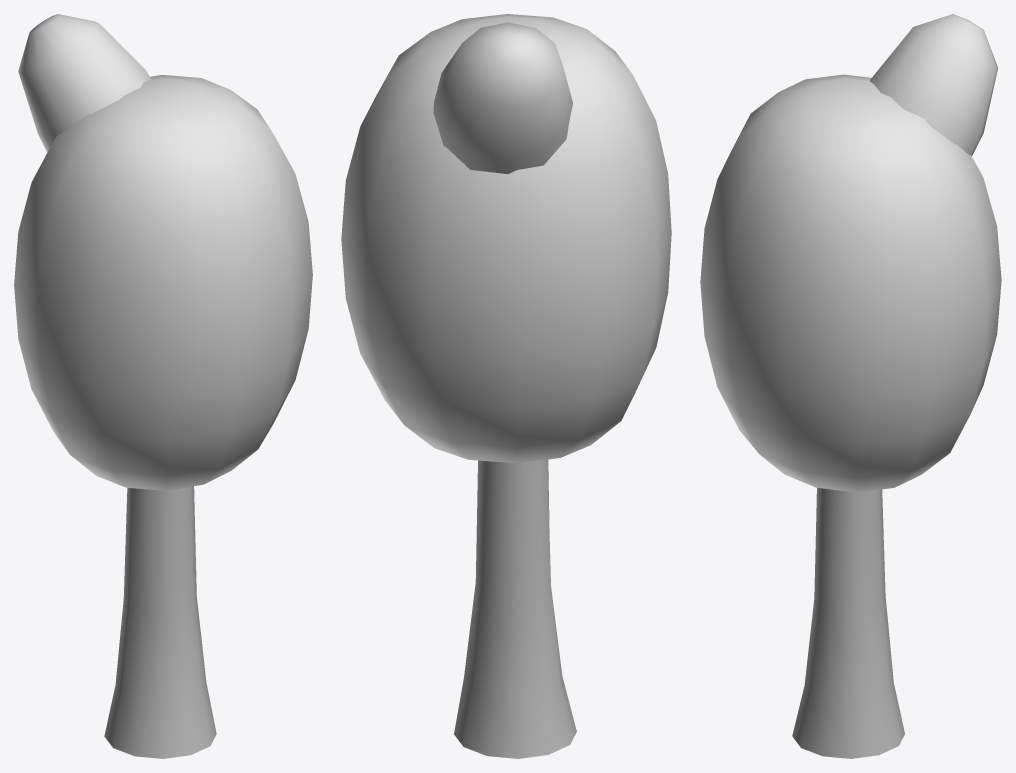
File: Tree_v1.fbx
The picture shows the model from 3 angles, left to right: view 1: azimuth 30°, elevation 25°; view 2: azimuth 150°, elevation 25°; view 3: azimuth 270°, elevation 25°; orthographic projection. The views are drawn at different scales.
Visible parts, largest first — view 1: Treev2.011; view 2: Treev2.011; view 3: Treev2.011.
Part boxes in pixels (x1,y1,x2,y2): Treev2.011: [14, 14, 312, 758]; Treev2.011: [341, 14, 671, 758]; Treev2.011: [700, 14, 1001, 758].
Size of the model in its own units: 1.92 by 4.81 by 1.89.
